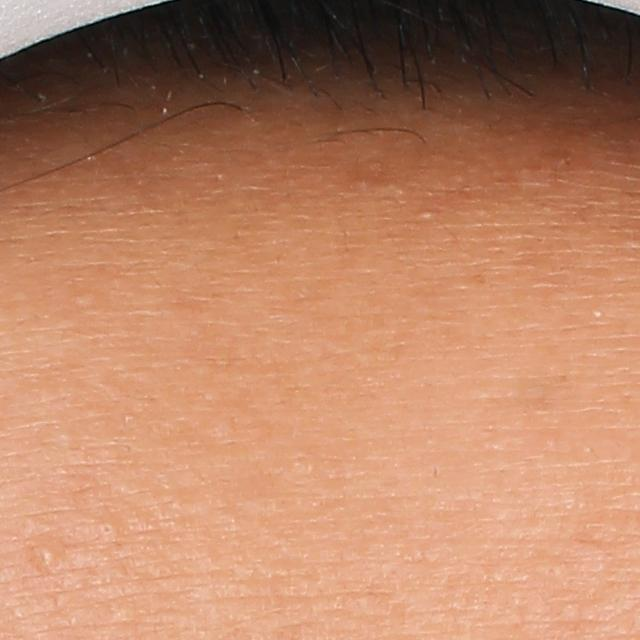comedo: (32, 541, 59, 572), (98, 522, 116, 538)
